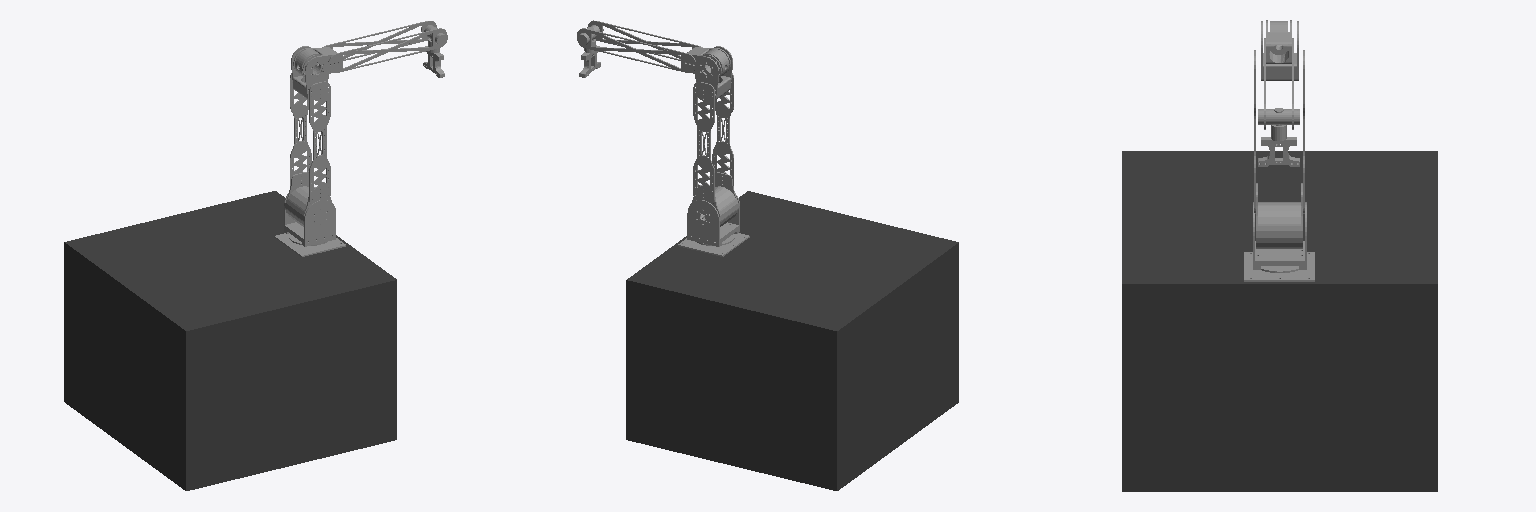
The robot description file, URDF, robot "gen5manipulator1":
<?xml version="1.0" encoding="utf-8"?>
<!-- This URDF was automatically created by SolidWorks to URDF Exporter! Originally created by Stephen Brawner (brawner@gmail.com) 
     Commit Version: 1.6.0-4-g7f85cfe  Build Version: 1.6.7995.38578
     For more information, please see http://wiki.ros.org/sw_urdf_exporter -->
<robot
  name="gen5manipulator1">




  <link name="world"/>

  <link name="table_link">
    <visual>
      <origin xyz="0 0 0.29" rpy="0 0 0"/>
      <geometry>
        <box size="0.8 0.8 0.58"/>
      </geometry>
      <material name="dark_grey">
        <color rgba="0.3 0.3 0.3 1.0"/>
      </material>
    </visual>
    <collision>
      <origin xyz="0 0 0.29" rpy="0 0 0"/>
        <geometry>
          <box size="0.8 0.8 0.58"/>
        </geometry>
    </collision>
    <inertial>
      <origin xyz="0 0 0.29" rpy="0 0 0"/>
        <mass value="200.0"/>
        <inertia ixx="10.0" ixy="0.0" ixz="0.0" iyy="10.0" iyz="0.0" izz="10.0"/>
      </inertial>
  </link>  

  <joint name="world_to_table" type="fixed">
    <parent link="world"/>
    <child link="table_link"/>
    <origin xyz="0 0 0" rpy="0 0 0"/>
  </joint>

  <joint name="table_to_base" type="fixed">
    <parent link="table_link"/>
    <child link="base_link"/>
    <origin xyz="0.3 0 0.58" rpy="0 0 0"/> 
  </joint>







  <link
    name="base_link">
    <inertial>
      <origin
        xyz="4.4409E-16 -0.0022485 0.0025"
        rpy="0 0 0" />
      <mass
        value="0.13971" />
      <inertia
        ixx="0.00040797"
        ixy="2.1711E-20"
        ixz="1.0473E-20"
        iyy="0.00036215"
        iyz="8.0772E-19"
        izz="0.00076954" />
    </inertial>
    <visual>
      <origin
        xyz="0 0 0"
        rpy="0 0 0" />
      <geometry>
        <mesh
          filename="package://gen5manipulator1/meshes/base_link.STL" />
      </geometry>
      <material
        name="">
        <color
          rgba="0.62745 0.62745 0.62745 1" />
      </material>
    </visual>
    <collision>
      <origin
        xyz="0 0 0"
        rpy="0 0 0" />
      <geometry>
        <mesh
          filename="package://gen5manipulator1/meshes/base_link.STL" />
      </geometry>
    </collision>
  </link>
  <link
    name="link1_holder">
    <inertial>
      <origin
        xyz="2.4425E-15 -0.00079832 0.053514"
        rpy="0 0 0" />
      <mass
        value="0.50507" />
      <inertia
        ixx="0.0019571"
        ixy="2.2409E-19"
        ixz="-7.774E-18"
        iyy="0.0013156"
        iyz="1.3037E-05"
        izz="0.001843" />
    </inertial>
    <visual>
      <origin
        xyz="0 0 0"
        rpy="0 0 0" />
      <geometry>
        <mesh
          filename="package://gen5manipulator1/meshes/link1_holder.STL" />
      </geometry>
      <material
        name="">
        <color
          rgba="0.62745 0.62745 0.62745 1" />
      </material>
    </visual>
    <collision>
      <origin
        xyz="0 0 0"
        rpy="0 0 0" />
      <geometry>
        <mesh
          filename="package://gen5manipulator1/meshes/link1_holder.STL" />
      </geometry>
    </collision>
  </link>
  <joint
    name="base_rotation"
    type="revolute">
    <origin
      xyz="0 0 0"
      rpy="0 0 0" />
    <parent
      link="base_link" />
    <child
      link="link1_holder" />
    <axis
      xyz="0 0 -1" />
    <limit
      lower="-6.28"
      upper="6.28"
      effort="147.1"
      velocity="5.24" />
  </joint>
  <link
    name="link1">
    <inertial>
      <origin
        xyz="2.6659E-05 -0.074457 0.15905"
        rpy="0 0 0" />
      <mass
        value="1.2478" />
      <inertia
        ixx="0.021234"
        ixy="5.9178E-06"
        ixz="-2.7229E-09"
        iyy="0.020094"
        iyz="-0.00044834"
        izz="0.0034657" />
    </inertial>
    <visual>
      <origin
        xyz="0 0 0"
        rpy="0 0 0" />
      <geometry>
        <mesh
          filename="package://gen5manipulator1/meshes/link1.STL" />
      </geometry>
      <material
        name="">
        <color
          rgba="0.62745 0.62745 0.62745 1" />
      </material>
    </visual>
    <collision>
      <origin
        xyz="0 0 0"
        rpy="0 0 0" />
      <geometry>
        <mesh
          filename="package://gen5manipulator1/meshes/link1.STL" />
      </geometry>
    </collision>
  </link>
  <joint
    name="link1_pitch"
    type="revolute">
    <origin
      xyz="-2.6709E-05 0.068528 0.117"
      rpy="0 0 0" />
    <parent
      link="link1_holder" />
    <child
      link="link1" />
    <axis
      xyz="0 1 0" />
    <limit
      lower="-1.57"
      upper="1.57"
      effort="425"
      velocity="5.24" />
  </joint>
  <link
    name="link2">
    <inertial>
      <origin
        xyz="0.10556 -0.038507 -3.5193E-05"
        rpy="0 0 0" />
      <mass
        value="0.43223" />
      <inertia
        ixx="0.00055499"
        ixy="-7.3973E-08"
        ixz="6.6575E-07"
        iyy="0.0064696"
        iyz="8.6205E-09"
        izz="0.0064785" />
    </inertial>
    <visual>
      <origin
        xyz="0 0 0"
        rpy="0 0 0" />
      <geometry>
        <mesh
          filename="package://gen5manipulator1/meshes/link2.STL" />
      </geometry>
      <material
        name="">
        <color
          rgba="0.62745 0.62745 0.62745 1" />
      </material>
    </visual>
    <collision>
      <origin
        xyz="0 0 0"
        rpy="0 0 0" />
      <geometry>
        <mesh
          filename="package://gen5manipulator1/meshes/link2.STL" />
      </geometry>
    </collision>
  </link>
  <joint
    name="link2_pitch"
    type="revolute">
    <origin
      xyz="2.6709E-05 -0.033 0.525"
      rpy="0 0 0" />
    <parent
      link="link1" />
    <child
      link="link2" />
    <axis
      xyz="0 1 0" />
    <limit
      lower="-3.3"
      upper="0.902"
      effort="147.1"
      velocity="5.24" />
  </joint>
  <link
    name="bevel_1">
    <inertial>
      <origin
        xyz="2.5783E-07 0.053 7.2327E-07"
        rpy="0 0 0" />
      <mass
        value="0.11458" />
      <inertia
        ixx="0.00013505"
        ixy="-7.6686E-12"
        ixz="2.0603E-09"
        iyy="2.37E-05"
        iyz="-1.0612E-11"
        izz="0.00013662" />
    </inertial>
    <visual>
      <origin
        xyz="0 0 0"
        rpy="0 0 0" />
      <geometry>
        <mesh
          filename="package://gen5manipulator1/meshes/bevel_1.STL" />
      </geometry>
      <material
        name="">
        <color
          rgba="0.62745 0.62745 0.62745 1" />
      </material>
    </visual>
    <collision>
      <origin
        xyz="0 0 0"
        rpy="0 0 0" />
      <geometry>
        <mesh
          filename="package://gen5manipulator1/meshes/bevel_1.STL" />
      </geometry>
    </collision>
  </link>
  <joint
    name="bevel_pitch"
    type="revolute">
    <origin
      xyz="0.46947 -0.091 -0.00010018"
      rpy="0 0 0" />
    <parent
      link="link2" />
    <child
      link="bevel_1" />
    <axis
      xyz="0 1 0" />
    <limit
      lower="-3.3"
      upper="0.3"
      effort="300"
      velocity="5.23" />
  </joint>
  <link
    name="bevel_2">
    <inertial>
      <origin
        xyz="2.9416E-09 -4.2769E-08 -0.086097"
        rpy="0 0 0" />
      <mass
        value="0.15096" />
      <inertia
        ixx="0.00032739"
        ixy="2.1736E-12"
        ixz="1.241E-12"
        iyy="0.00027091"
        iyz="-1.5795E-10"
        izz="7.3161E-05" />
    </inertial>
    <visual>
      <origin
        xyz="0 0 0"
        rpy="0 0 0" />
      <geometry>
        <mesh
          filename="package://gen5manipulator1/meshes/bevel_2.STL" />
      </geometry>
      <material
        name="">
        <color
          rgba="0.62745 0.62745 0.62745 1" />
      </material>
    </visual>
    <collision>
      <origin
        xyz="0 0 0"
        rpy="0 0 0" />
      <geometry>
        <mesh
          filename="package://gen5manipulator1/meshes/bevel_2.STL" />
      </geometry>
    </collision>
  </link>
  <joint
    name="bevel_roll"
    type="revolute">
    <origin
      xyz="2.3571E-05 0.053 0.02"
      rpy="0 0.0011785 0" />
    <parent
      link="bevel_1" />
    <child
      link="bevel_2" />
    <axis
      xyz="0 0 1" />
    <limit
      lower="-6.28"
      upper="6.28"
      effort="300"
      velocity="5.24" />
  </joint>



  <!--Dummy link-->
  <link name="dummy_ee_link">
    <inertial>
        <origin xyz="0 0 0" rpy="0 0 0"/>
        <mass value="0.001"/> <inertia ixx="0.000001" ixy="0.0" ixz="0.0" iyy="0.000001" iyz="0.0" izz="0.000001"/>
    </inertial>

  </link>

  <joint name="bevel2_to_dummy_ee" type="fixed">
    <parent link="bevel_2"/>
    <child link="dummy_ee_link"/>
    <origin xyz="0 0 -0.15" rpy="0 0 0"/>
  </joint>
</robot>

--- Facts derived from the render (not from the file) ---
Views: 3 orthographic renders of the robot side by side, from view 1: azimuth 30°, elevation 25°; view 2: azimuth 150°, elevation 25°; view 3: azimuth 270°, elevation 25°.
Robot: gen5manipulator1 — 9 links, 8 joints (5 revolute, 3 fixed); root link world; default pose: all joints at 0.
Links seen in each view (by area): view 1: table_link, link1, link2, link1_holder, base_link; view 2: table_link, link1, link2, link1_holder, base_link; view 3: table_link, link1, link2, link1_holder, base_link, bevel_2, bevel_1.
Link boxes in pixels (bbox=[...]): table_link: bbox=[64, 191, 396, 490]; link1: bbox=[285, 46, 331, 226]; link2: bbox=[293, 21, 447, 77]; link1_holder: bbox=[284, 193, 335, 246]; base_link: bbox=[274, 233, 345, 256]; table_link: bbox=[626, 191, 958, 490]; link1: bbox=[692, 46, 738, 226]; link2: bbox=[577, 20, 730, 77]; link1_holder: bbox=[687, 193, 739, 246]; base_link: bbox=[678, 233, 749, 256]; table_link: bbox=[1122, 151, 1437, 491]; link1: bbox=[1254, 21, 1304, 248]; link2: bbox=[1264, 20, 1293, 129]; link1_holder: bbox=[1253, 202, 1306, 272]; base_link: bbox=[1244, 252, 1314, 281]; bevel_2: bbox=[1258, 108, 1299, 166]; bevel_1: bbox=[1258, 109, 1299, 124].
Bounding box of the posed robot: 1.2 × 0.8 × 1.27 m (x, y, z).
6 mesh visuals loaded from 6 distinct referenced files (6 binary STL).
